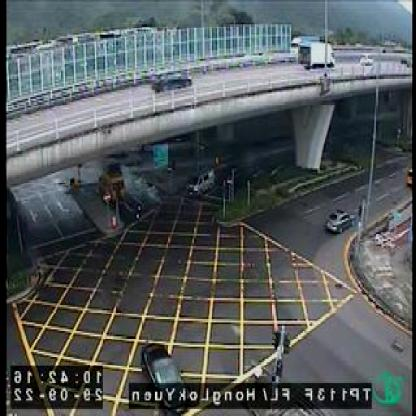Car: (140, 343, 195, 411), (152, 64, 194, 99), (184, 163, 218, 201), (324, 206, 355, 238)
Truck: (90, 160, 128, 201), (304, 38, 336, 73)
